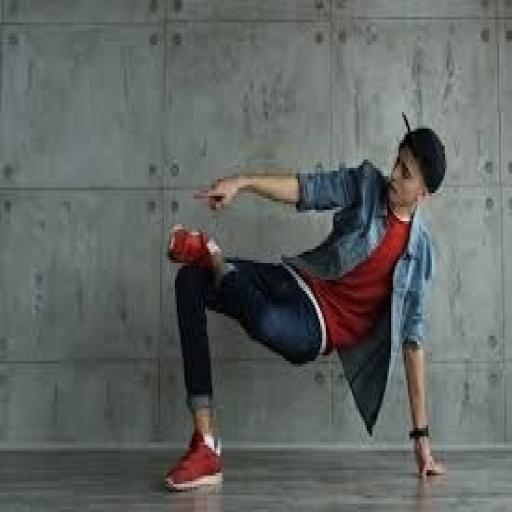dancing: (160, 109, 451, 495)
